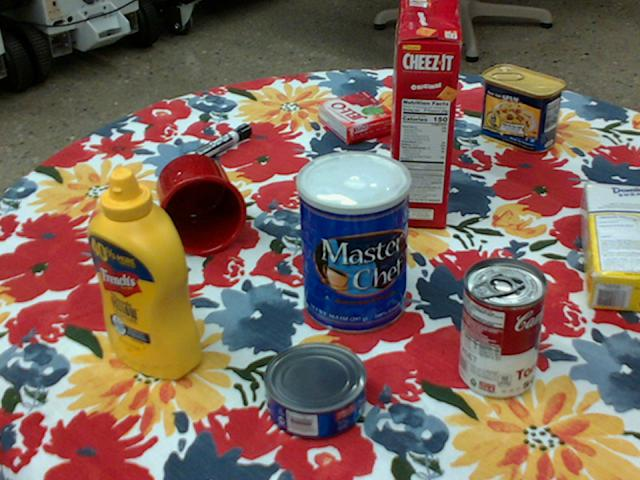cracker_box: (389, 0, 460, 227)
gelatin_box: (315, 91, 395, 145)
large_marker: (177, 122, 249, 169)
master_chef_can: (295, 151, 410, 335)
mug: (141, 154, 247, 257)
mustard_bottle: (86, 168, 203, 378)
potted_meat_can: (480, 63, 565, 151)
sugar_box: (579, 183, 639, 311)
tomato_soup_can: (459, 256, 546, 398)
tuna_fish_can: (260, 342, 363, 439)
